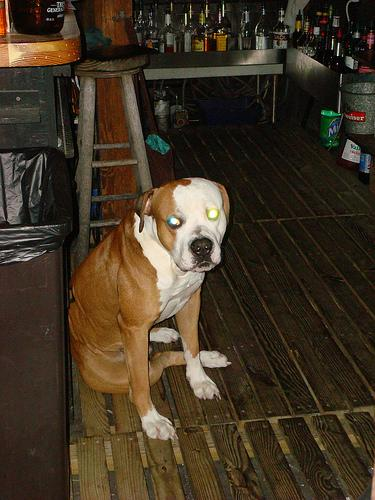dog-american_bulldog: (130, 176, 228, 271)
